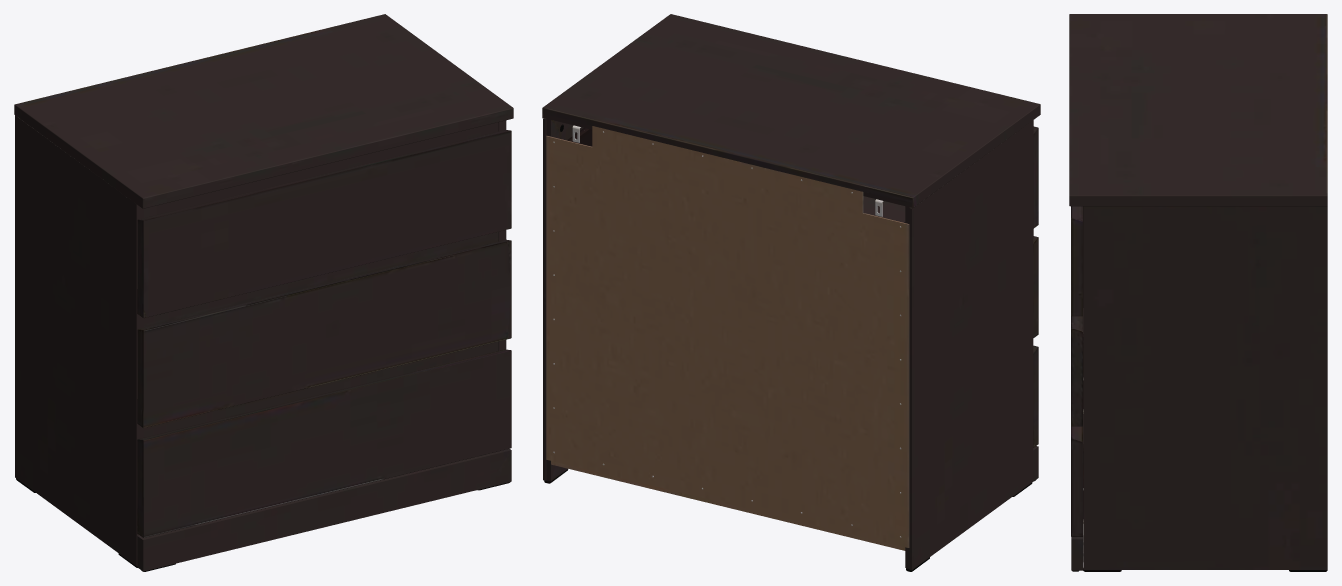
3 renders of one model, left to right at view 1: azimuth 30°, elevation 25°; view 2: azimuth 150°, elevation 25°; view 3: azimuth 270°, elevation 25°, orthographic.
Parts seen in each view (by area): view 1: model; view 2: model; view 3: model.
Boxes of the visible parts, x1,y1,x2,y2 form: model: (14,14,513,571); model: (542,14,1040,571); model: (1069,14,1327,571).
Bounding box in the file's own units: 0.803 × 0.7765 × 0.4823.
Materials: 1 (1 with a texture image).
